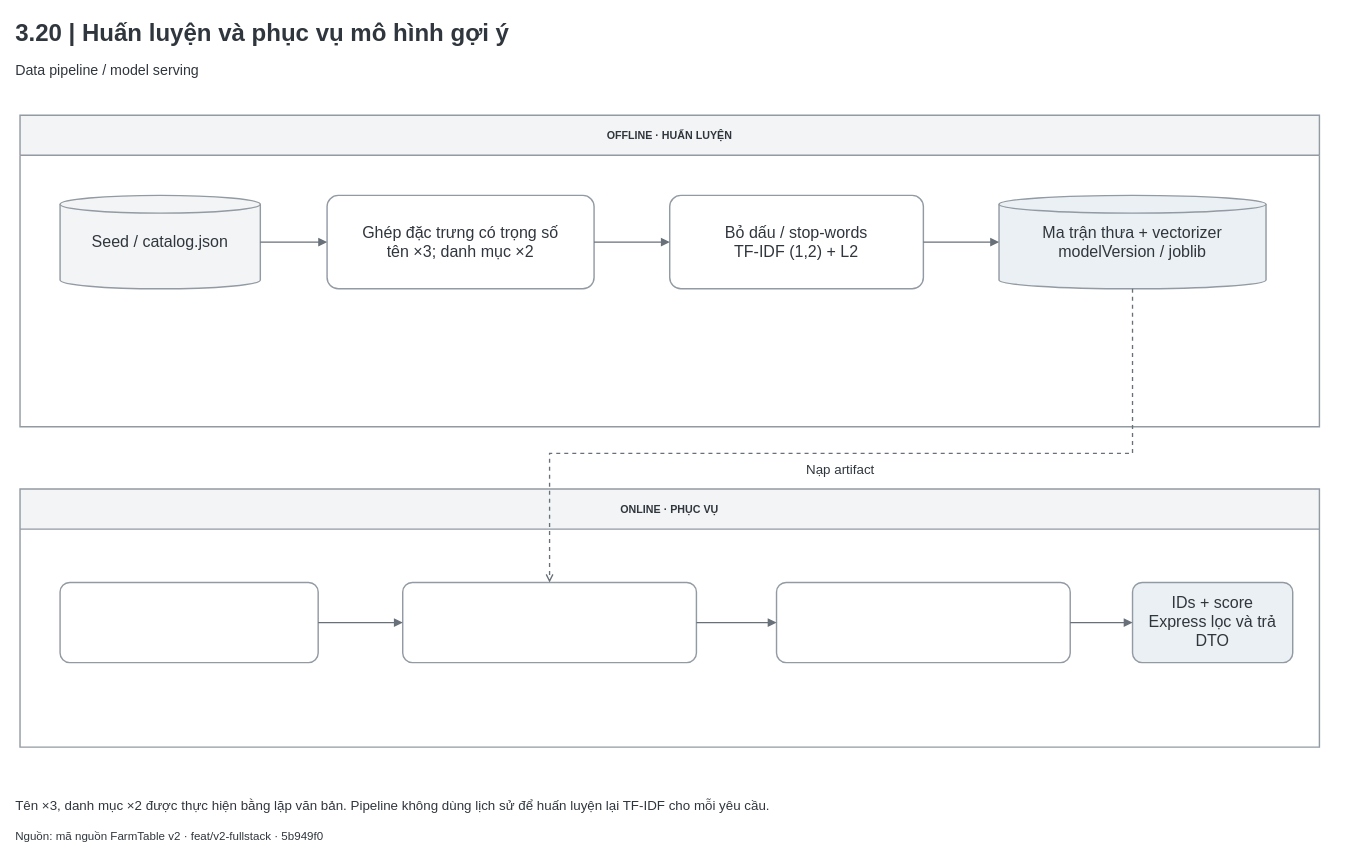
The diagram is 1347 pixels wide and 862 high, and some of its shapes have lost their labels. The centre of each missing label's shape, as x and y in pixels:
"FastAPI nạp model cosine / hồ sơ có trọng số" belongs at (x=549, y=622).
"ID sản phẩm / tương tác người dùng" belongs at (x=188, y=622).
"Loại sản phẩm gốc / đã xem xếp hạng top-k điểm dương" belongs at (x=922, y=622).
